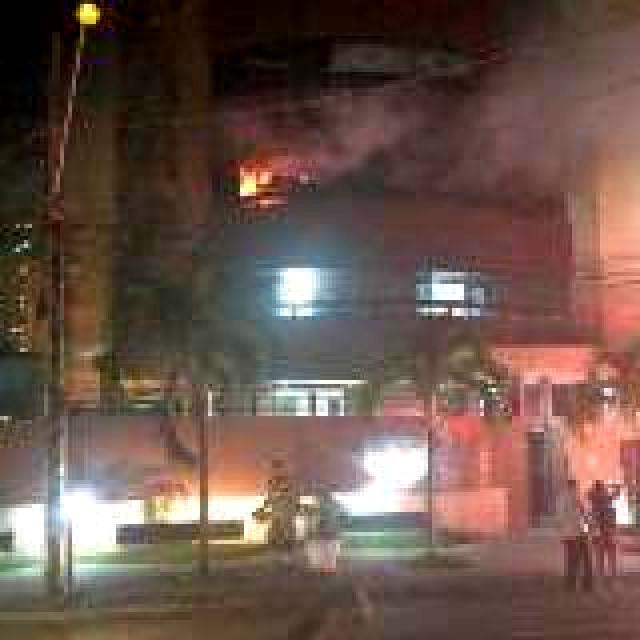smoke: (280, 8, 640, 188)
